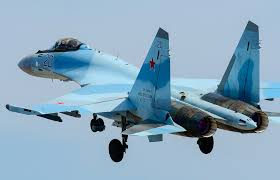fighter: (6, 16, 279, 152)
